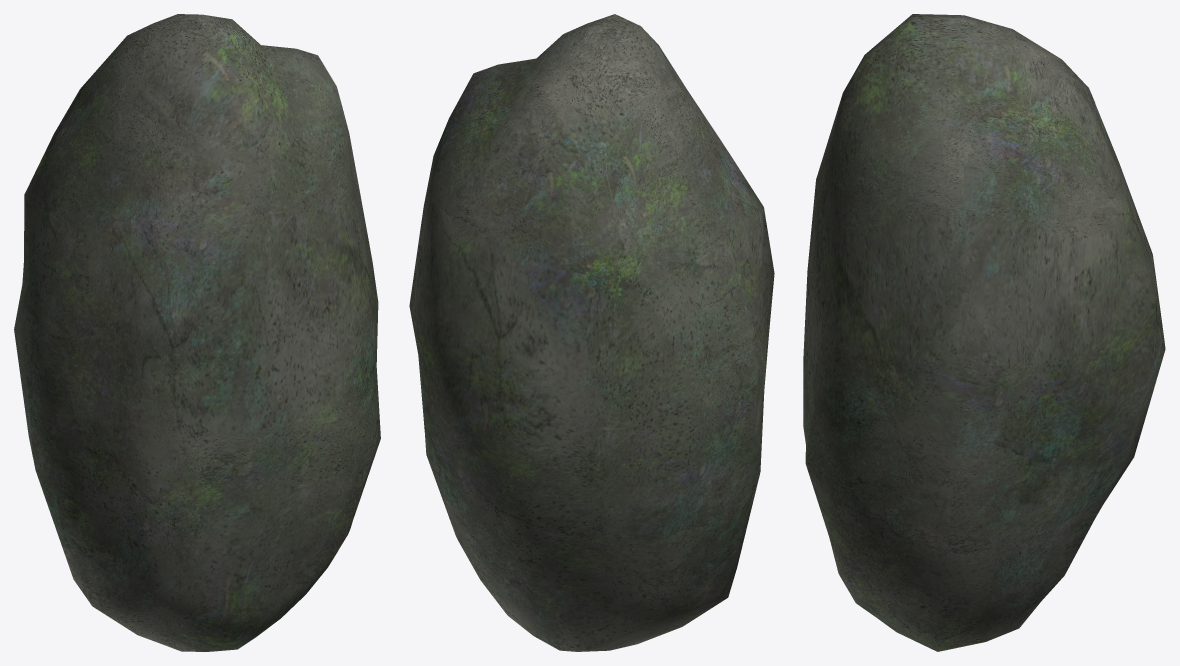
File: Boulder 1 - LOD 0.fbx
3 renders of one model, left to right at view 1: azimuth 30°, elevation 25°; view 2: azimuth 150°, elevation 25°; view 3: azimuth 270°, elevation 25°, orthographic.
Visible parts, largest first — view 1: Boulder 1 - LOD 0; view 2: Boulder 1 - LOD 0; view 3: Boulder 1 - LOD 0.
Part boxes in pixels (bbox=[...]): Boulder 1 - LOD 0: bbox=[14, 14, 380, 651]; Boulder 1 - LOD 0: bbox=[409, 14, 774, 651]; Boulder 1 - LOD 0: bbox=[803, 14, 1165, 651].
Size of the model in its own units: 4.31 by 7.85 by 4.11.
